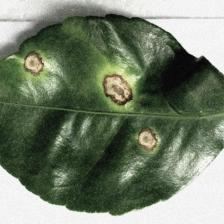canker: (21, 46, 166, 151)
